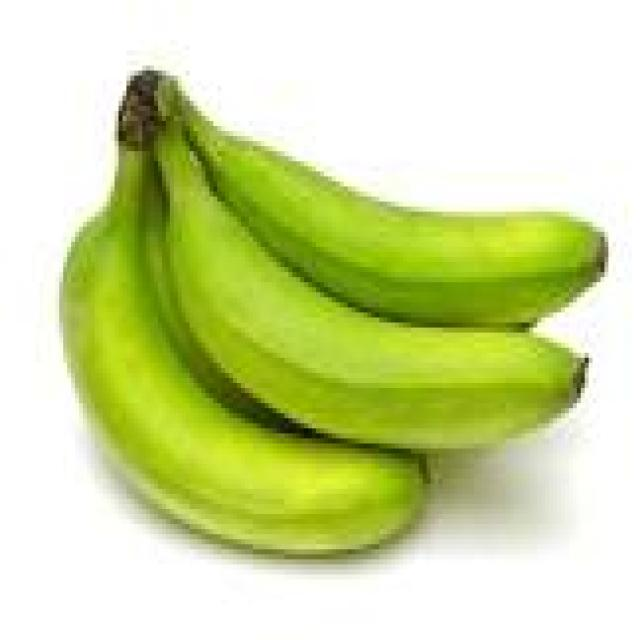banana: (64, 116, 426, 554), (155, 116, 584, 448), (182, 96, 604, 327), (143, 167, 284, 428)
